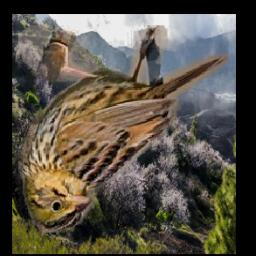Sparrow: (18, 26, 228, 233)
